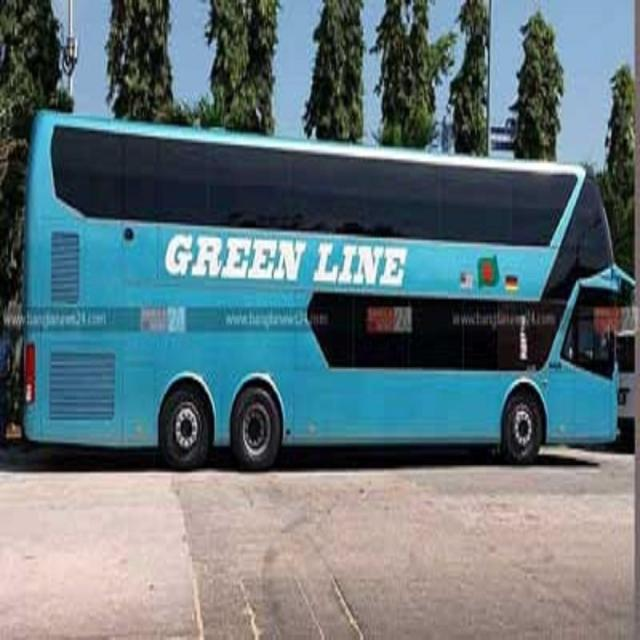Double decker: (1, 83, 626, 494)
